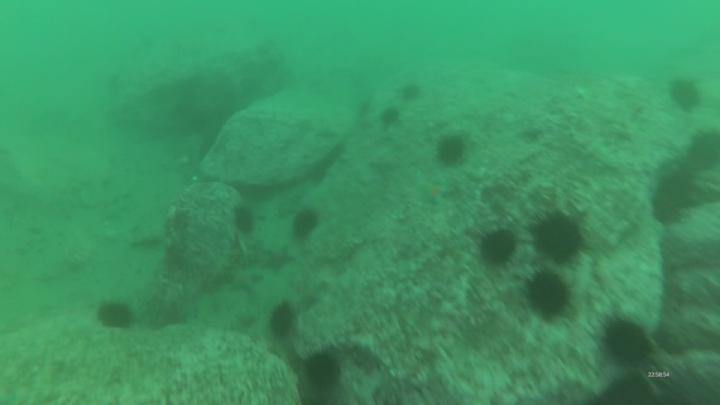echinus: (604, 318, 647, 361), (535, 221, 581, 259), (531, 271, 567, 313), (480, 232, 512, 265), (306, 351, 336, 386), (691, 130, 720, 165), (669, 78, 699, 105), (437, 135, 466, 162), (100, 305, 130, 327), (272, 308, 291, 335), (294, 211, 317, 233), (236, 208, 255, 233), (384, 109, 399, 121), (407, 86, 419, 99)
starfish: (259, 244, 294, 271), (227, 267, 262, 292), (375, 150, 407, 176), (420, 181, 450, 203)
